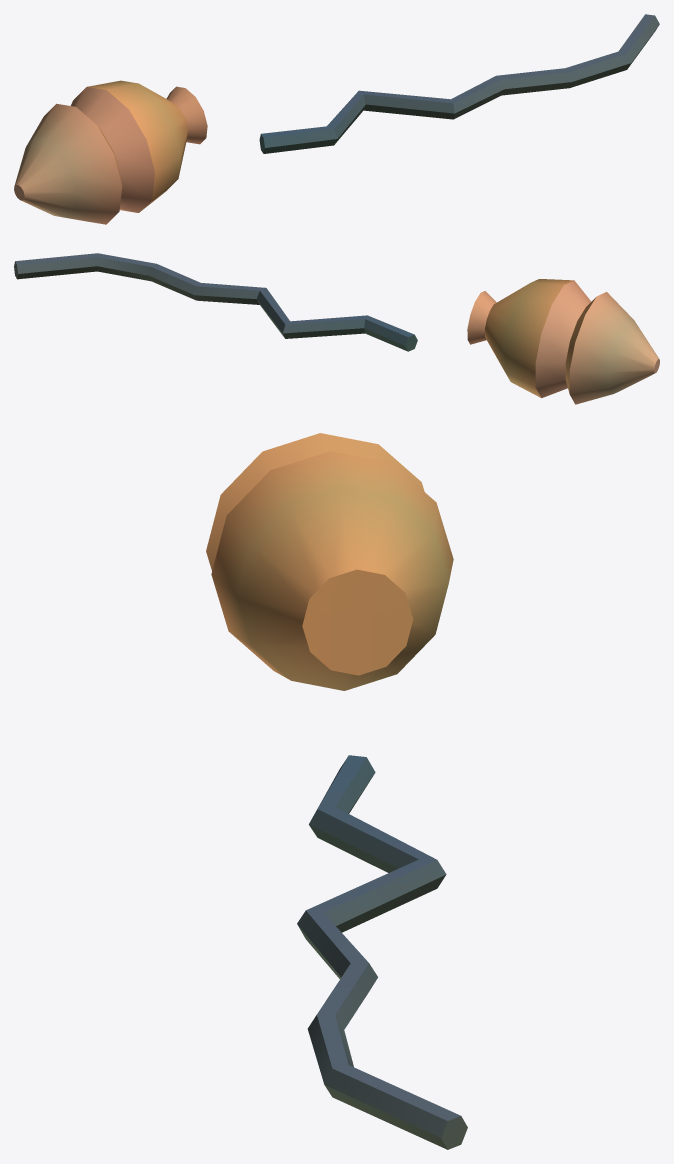
The model's file is censer_fallen.glb.
3 views of the same model, one above another, from view 1: azimuth 30°, elevation 25°; view 2: azimuth 150°, elevation 25°; view 3: azimuth 270°, elevation 25° (orthographic). The views are drawn at different scales.
Parts seen in each view (by area): view 1: censer_f, chain_f; view 2: censer_f, chain_f; view 3: censer_f, chain_f.
Boxes of the visible parts, box(x1,y1,x2,y2) form: censer_f: box(14, 80, 207, 224); chain_f: box(259, 14, 659, 153); censer_f: box(467, 279, 659, 404); chain_f: box(14, 253, 417, 351); censer_f: box(206, 433, 453, 690); chain_f: box(297, 755, 467, 1149).
Size of the model in its own units: 1.38 by 0.241 by 0.2567.
